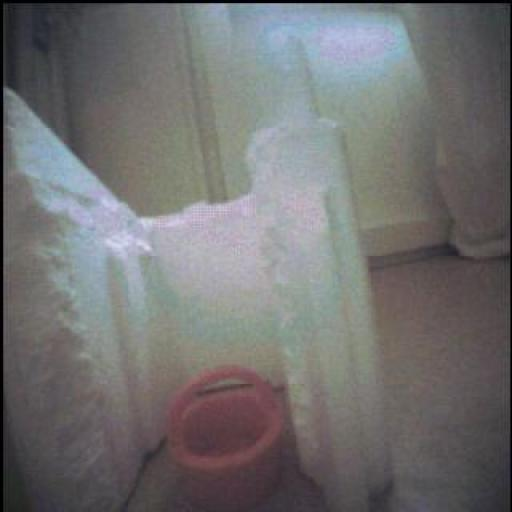Basket: (171, 367, 284, 512)
